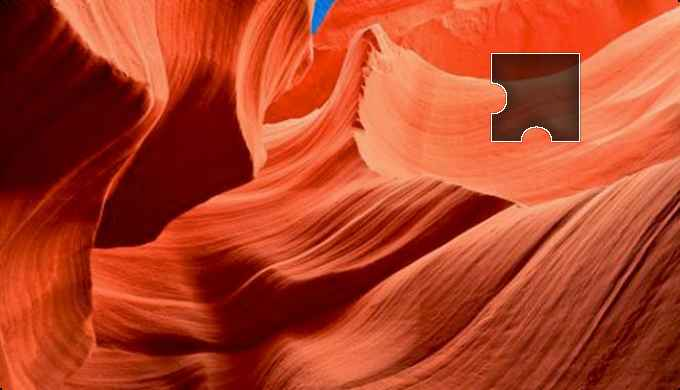gap: (490, 53, 581, 139)
